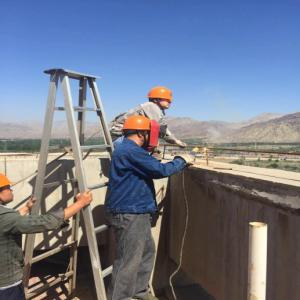yellow: (121, 114, 160, 147), (147, 86, 177, 111), (2, 175, 18, 208)
